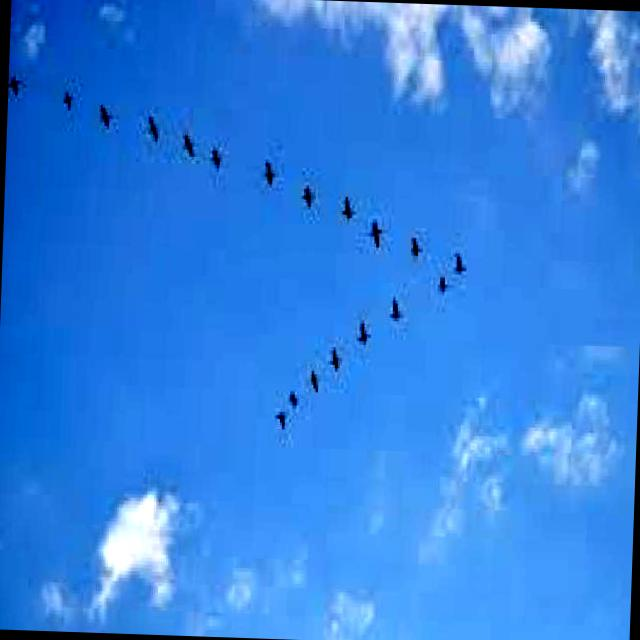bird: (260, 398, 296, 452), (291, 165, 326, 219), (256, 134, 288, 191), (404, 210, 436, 266), (198, 134, 235, 181), (334, 178, 364, 232), (362, 197, 392, 251), (304, 351, 332, 408), (140, 104, 168, 154), (353, 307, 381, 357), (280, 374, 308, 424), (322, 339, 350, 382), (7, 60, 28, 114), (56, 80, 82, 122), (386, 286, 410, 328), (451, 236, 471, 286), (434, 263, 456, 306), (96, 94, 118, 136), (178, 116, 196, 166)
